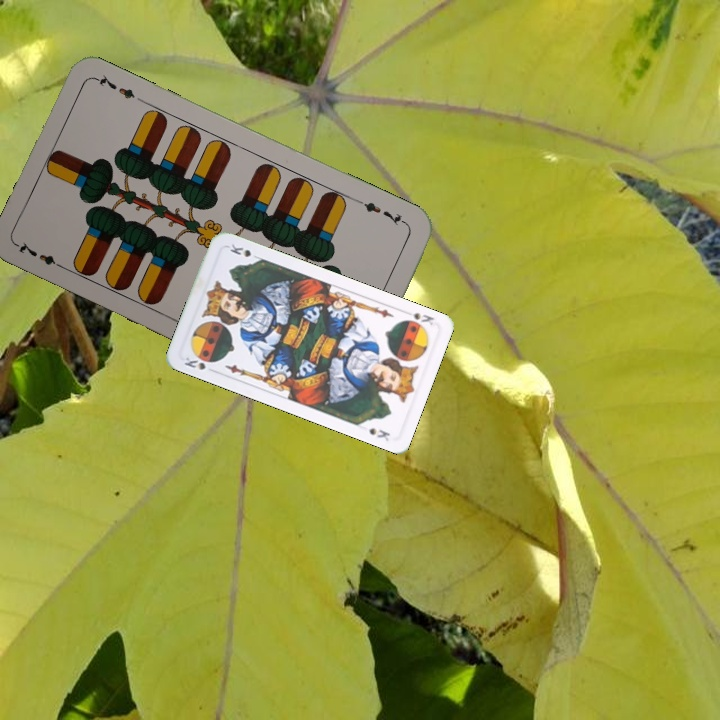E7: (13, 238, 69, 273), (354, 195, 410, 229)
SK: (180, 352, 208, 373), (408, 308, 437, 328)
